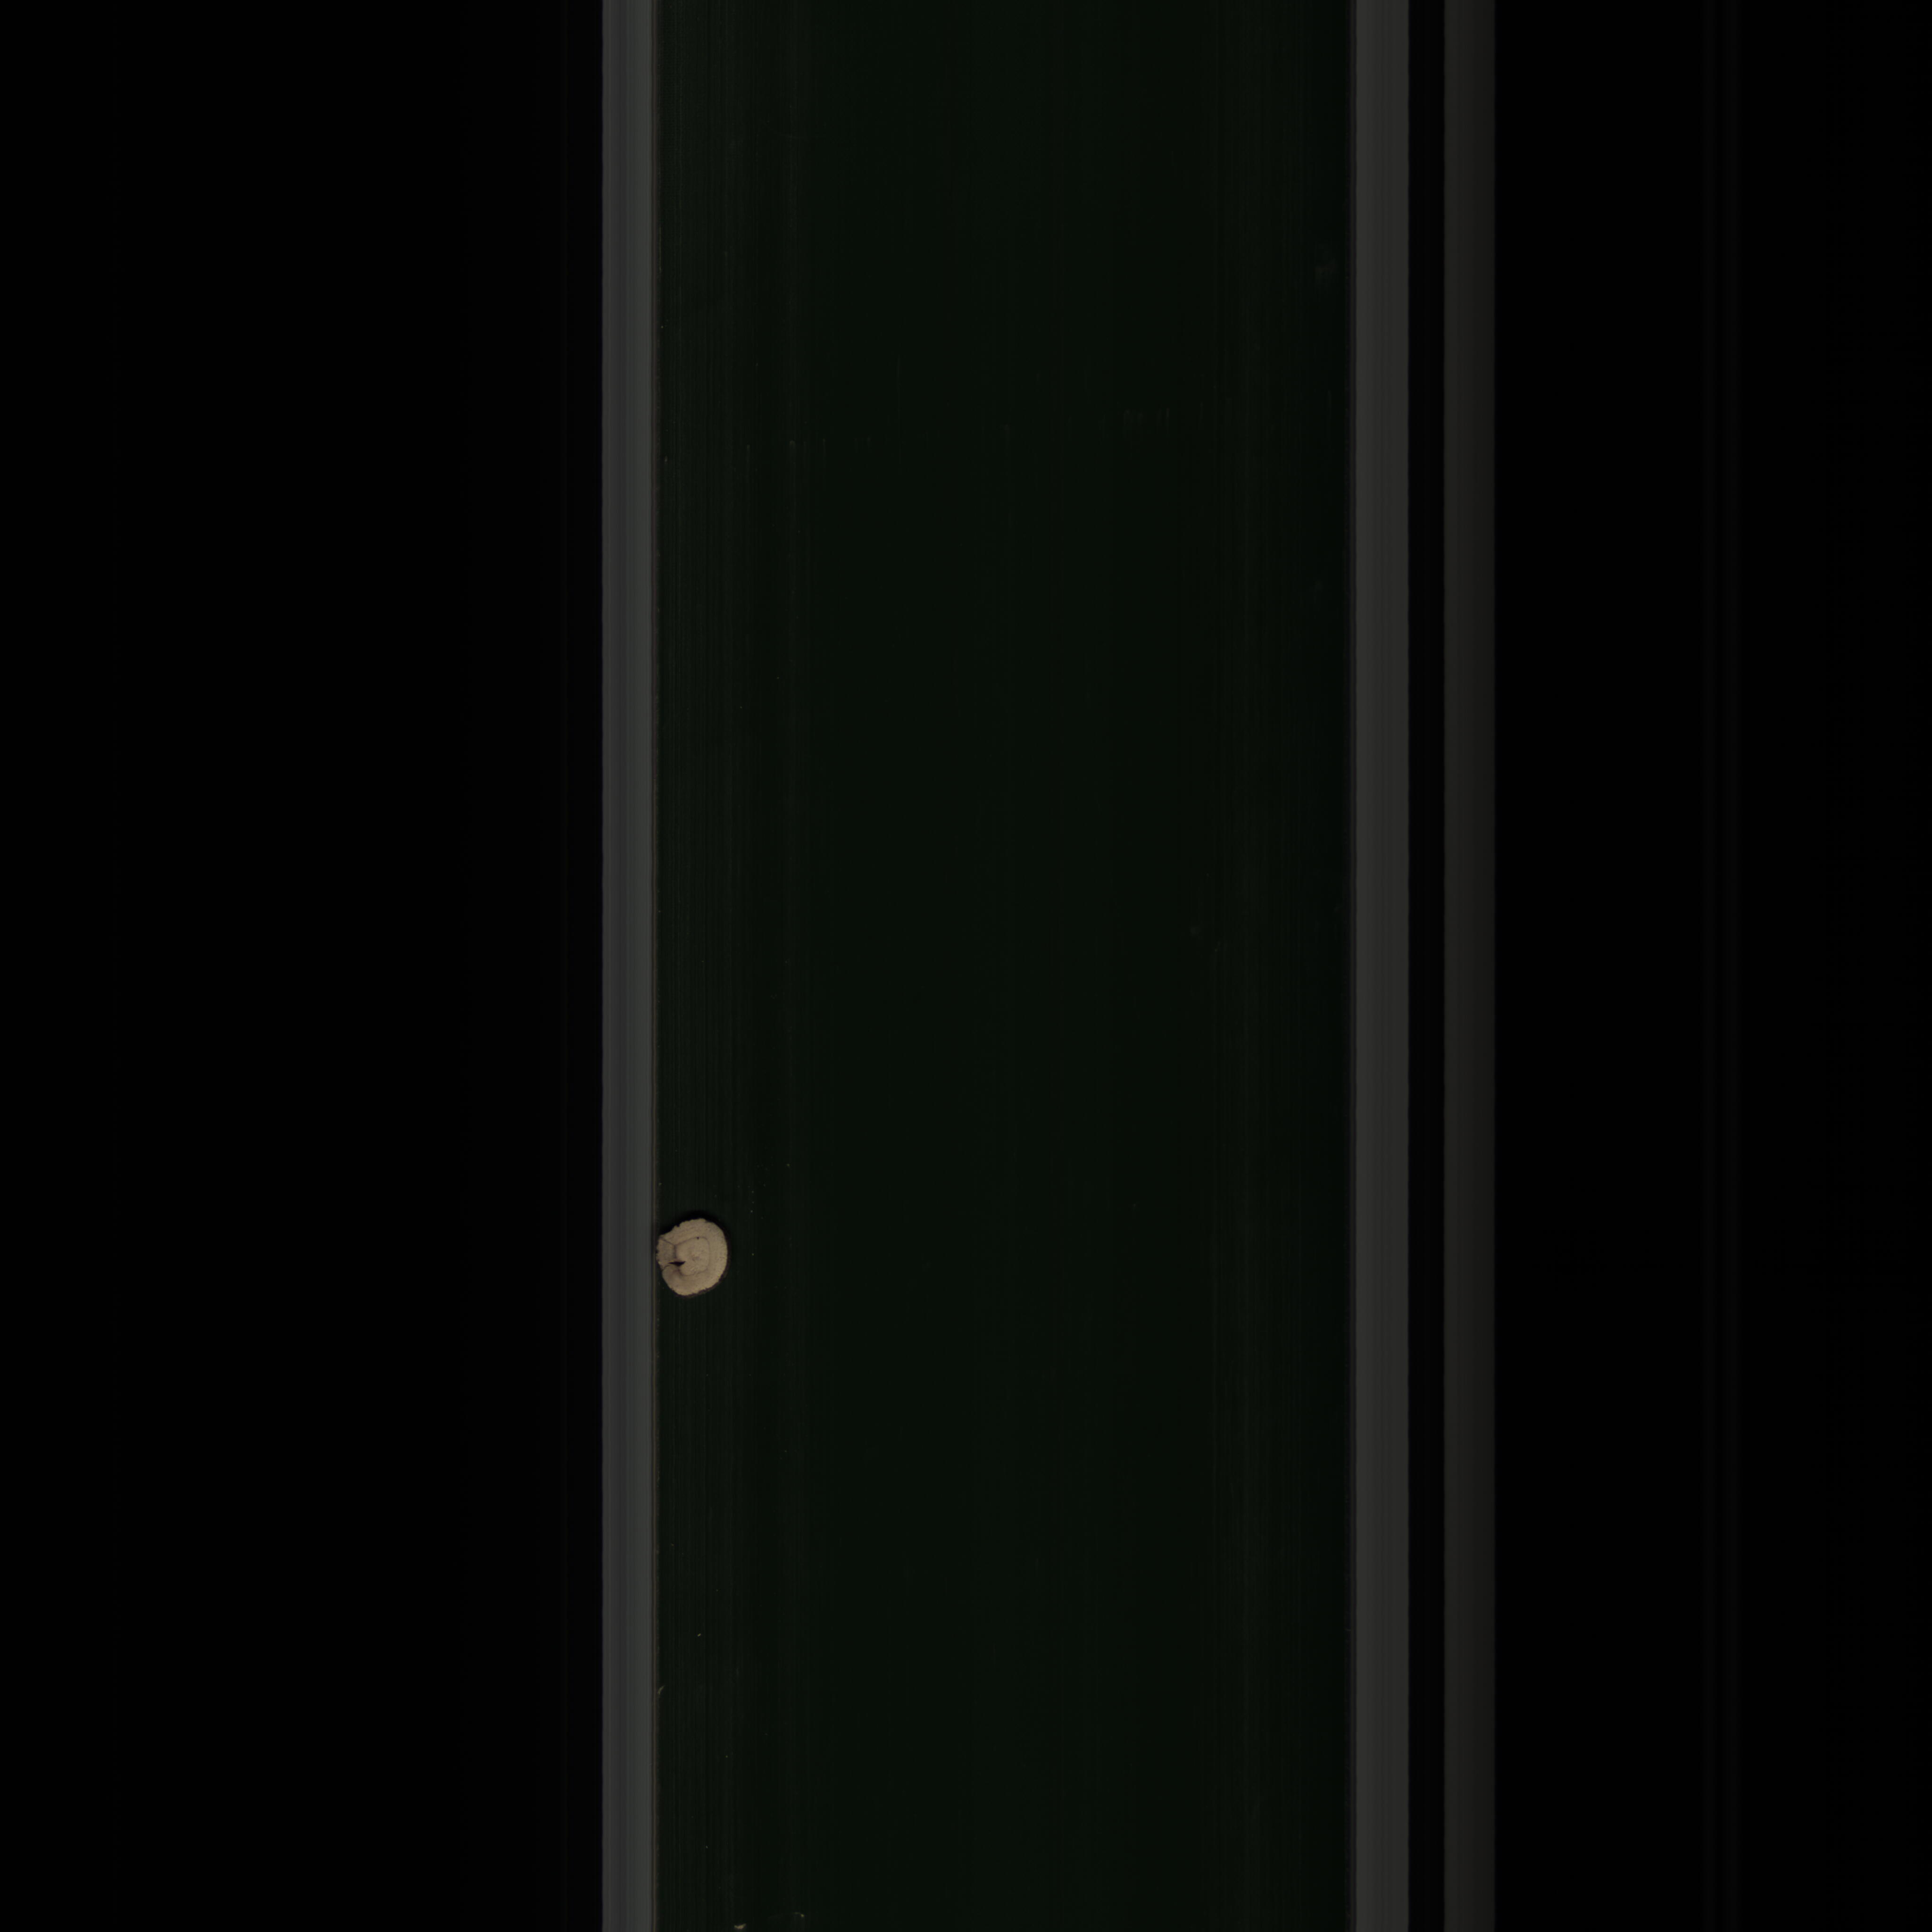hole: (649, 1207, 754, 1311)
